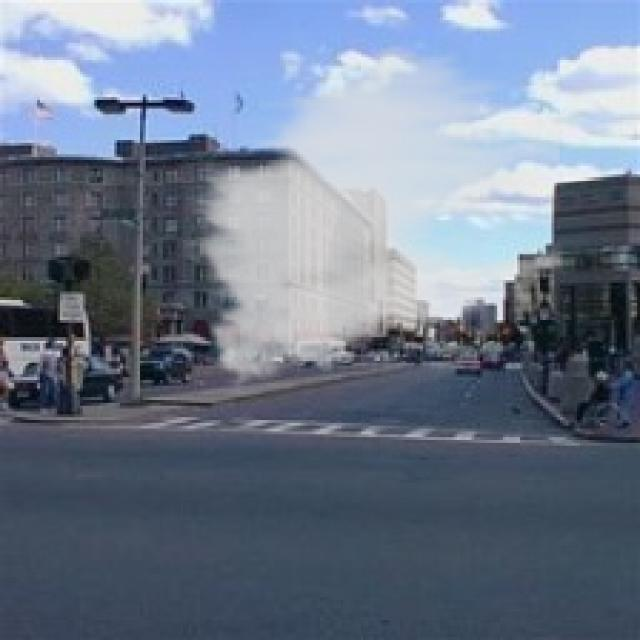Smoke: (180, 34, 563, 397)
